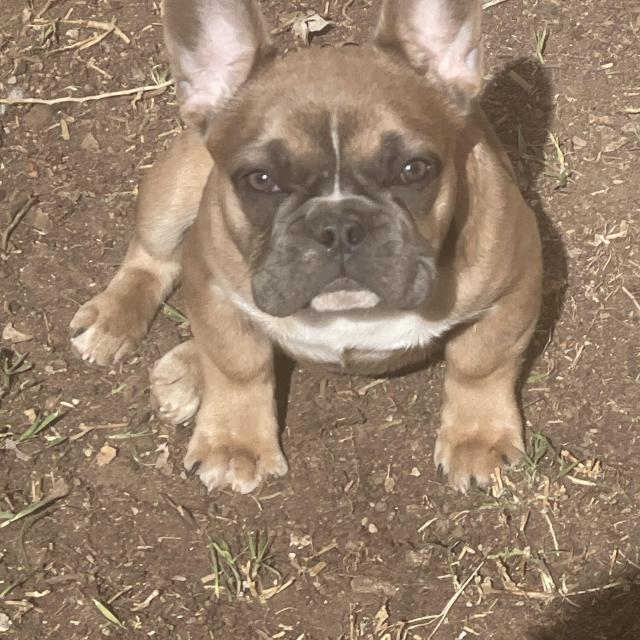french_bulldog_dog: (153, 0, 507, 329)
